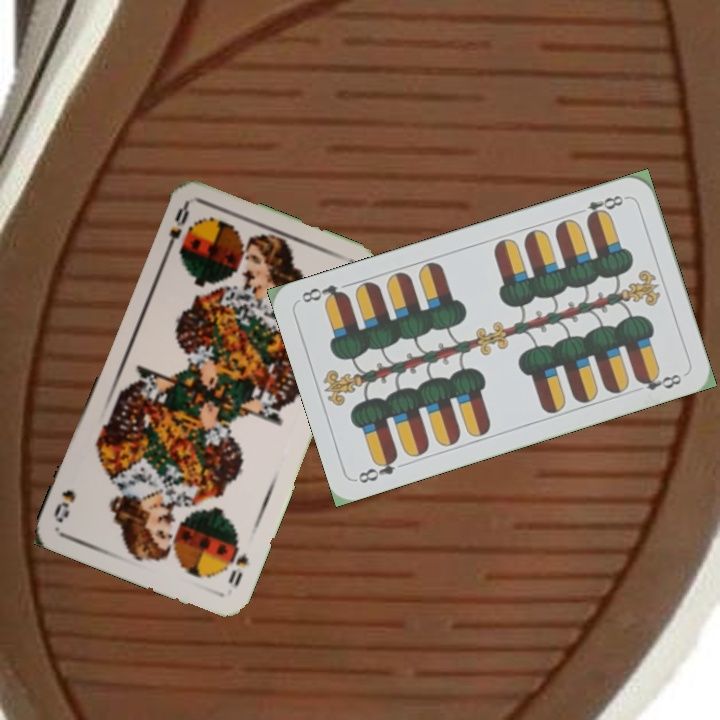E8: (354, 450, 401, 486), (582, 191, 630, 223)
SO: (161, 200, 192, 257), (224, 542, 252, 590)
